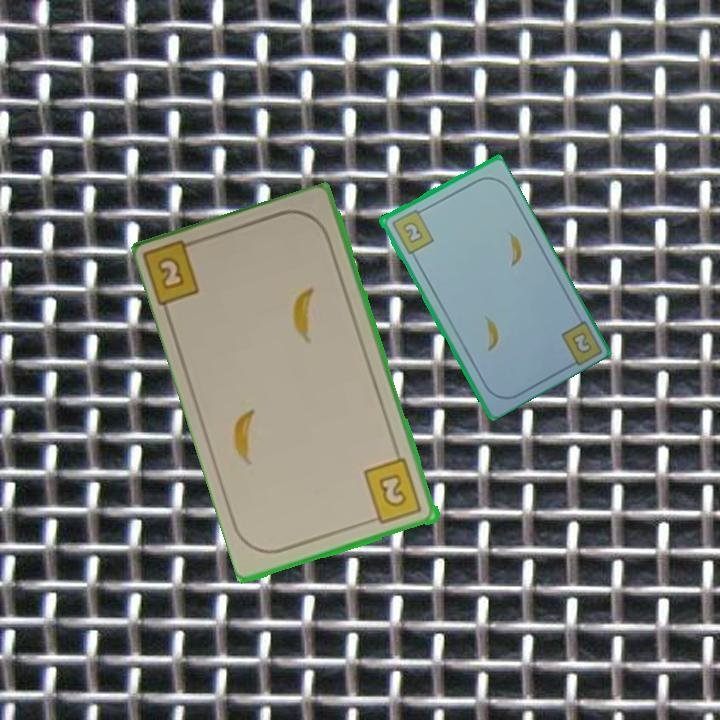2b: (142, 235, 206, 311), (360, 455, 425, 527), (388, 205, 436, 257), (570, 330, 593, 354)
